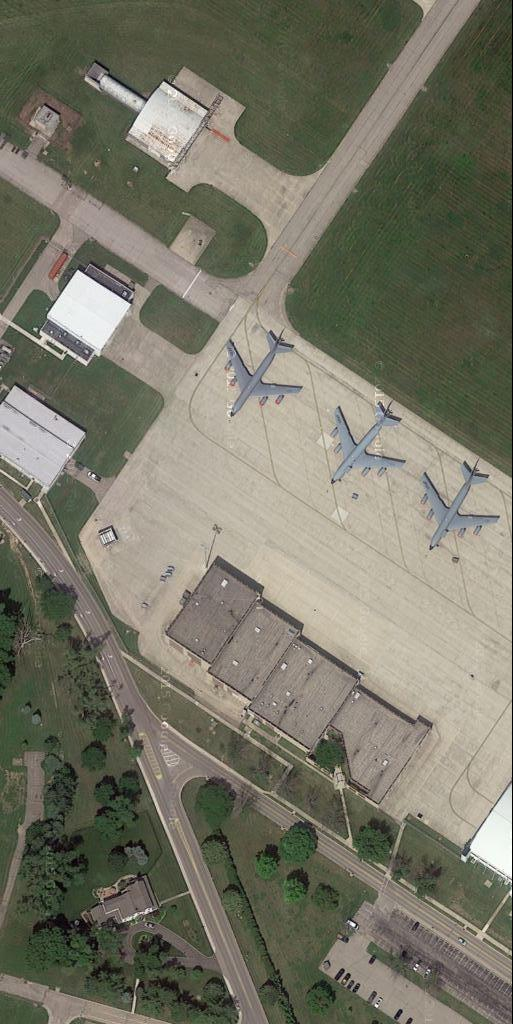KC-135: (416, 457, 502, 553), (220, 327, 301, 419), (325, 400, 408, 487)
